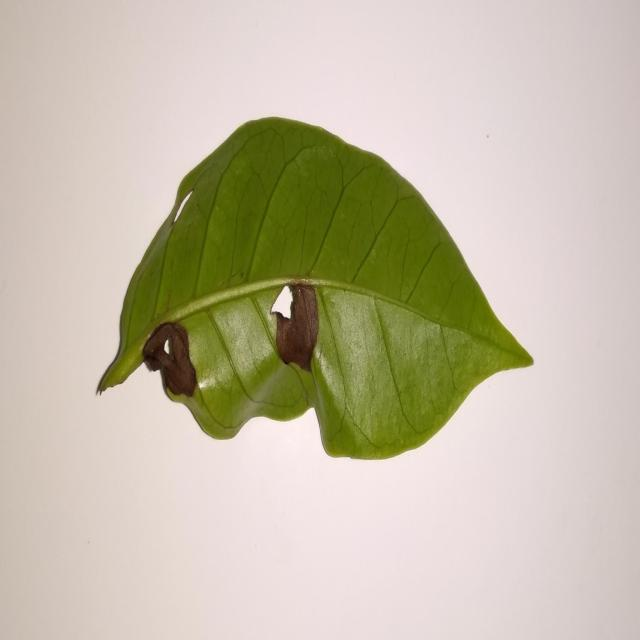phoma: (142, 322, 200, 416), (272, 282, 319, 371)
